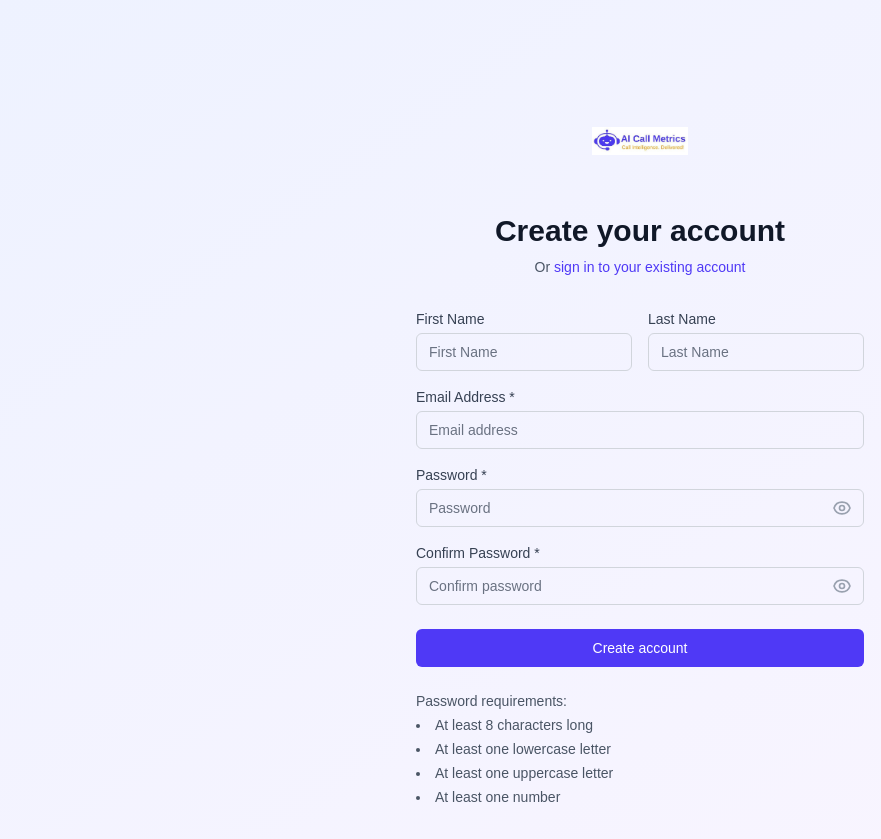
Test: RegisterForm › Password Strength Indicator › shows Very Weak for short password
The image size is (881, 839).
Type "abc" into the password field labelled "Password *". click: coordinates (640, 508)
box: 416,489 -> 864,527
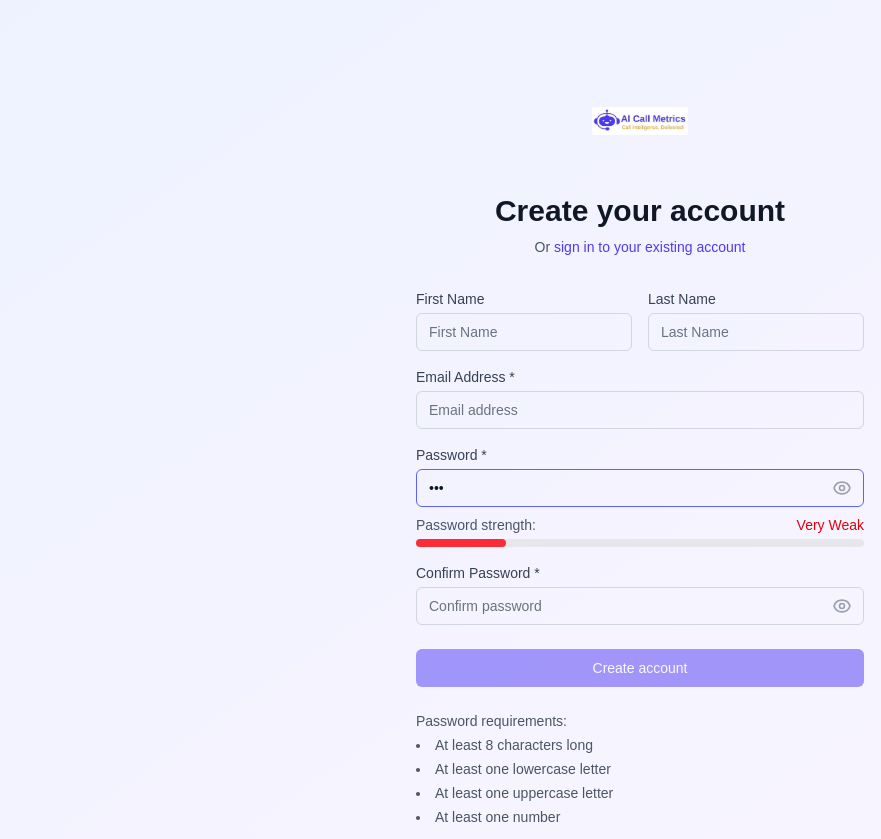
Expected: the text "Password strength:" is shown, 416,515 -> 536,535
Expected: the text "Very Weak" is shown, 797,515 -> 864,535
